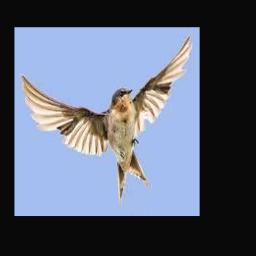Swallow: (20, 33, 192, 206)
